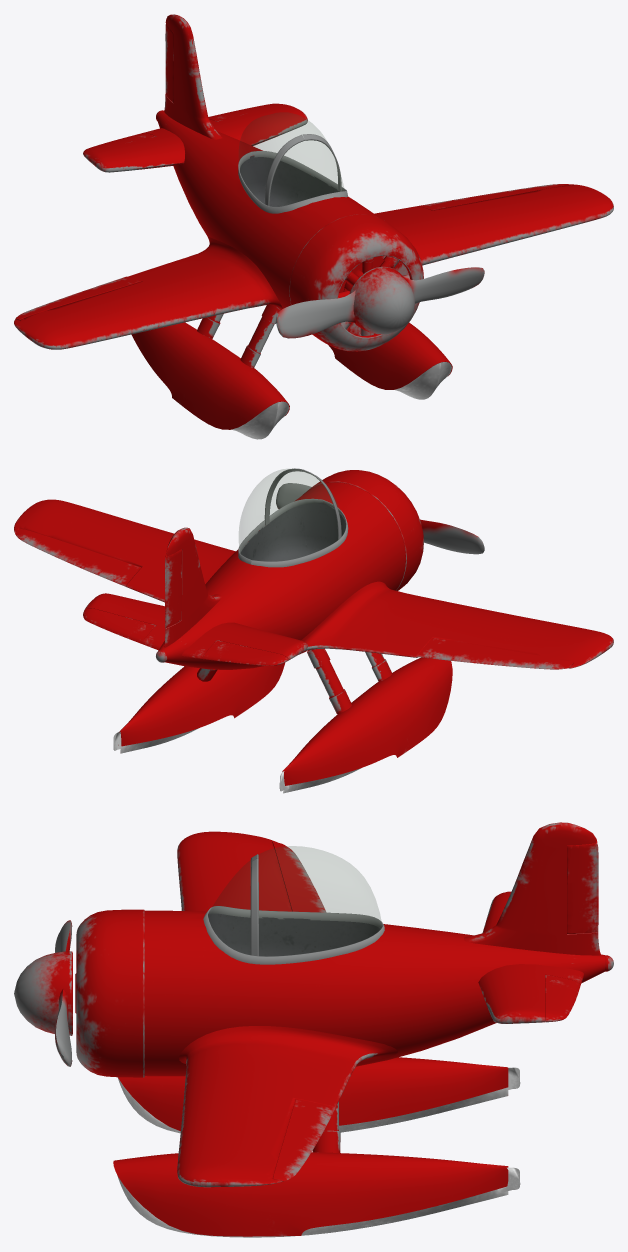
3 renders of one model, top to bottom at view 1: azimuth 30°, elevation 25°; view 2: azimuth 150°, elevation 25°; view 3: azimuth 270°, elevation 25°, orthographic. The views are drawn at different scales.
Parts seen in each view (by area): view 1: Body, propeller1, canopi, aileron_R, aileron_L, rudder; view 2: Body, canopi, aileron_R, aileron_L, propeller1, tail_L1, tail_L, rudder; view 3: Body, canopi, propeller1, rudder, aileron_L, aileron_R, tail_L.
Part boxes in pixels (left/top/right/bottom): Body: left=14, top=14, right=613, bottom=439; propeller1: left=276, top=266, right=484, bottom=338; canopi: left=239, top=112, right=344, bottom=206; aileron_R: left=15, top=276, right=141, bottom=320; aileron_L: left=417, top=184, right=571, bottom=210; rudder: left=165, top=24, right=173, bottom=103; Body: left=14, top=468, right=613, bottom=793; canopi: left=239, top=468, right=345, bottom=561; aileron_R: left=417, top=637, right=573, bottom=669; aileron_L: left=15, top=528, right=141, bottom=586; propeller1: left=276, top=483, right=484, bottom=554; tail_L1: left=203, top=640, right=288, bottom=665; tail_L: left=83, top=608, right=156, bottom=643; rudder: left=165, top=549, right=181, bottom=628; Body: left=75, top=822, right=613, bottom=1237; canopi: left=208, top=846, right=381, bottom=956; propeller1: left=14, top=920, right=72, bottom=1066; rudder: left=567, top=843, right=598, bottom=933; aileron_L: left=273, top=1099, right=334, bottom=1181; aileron_R: left=272, top=841, right=326, bottom=912; tail_L: left=545, top=975, right=580, bottom=1022.
Size of the model in its own units: 9.98 by 4.85 by 7.21.
Materials: 1 (1 with a texture image).
